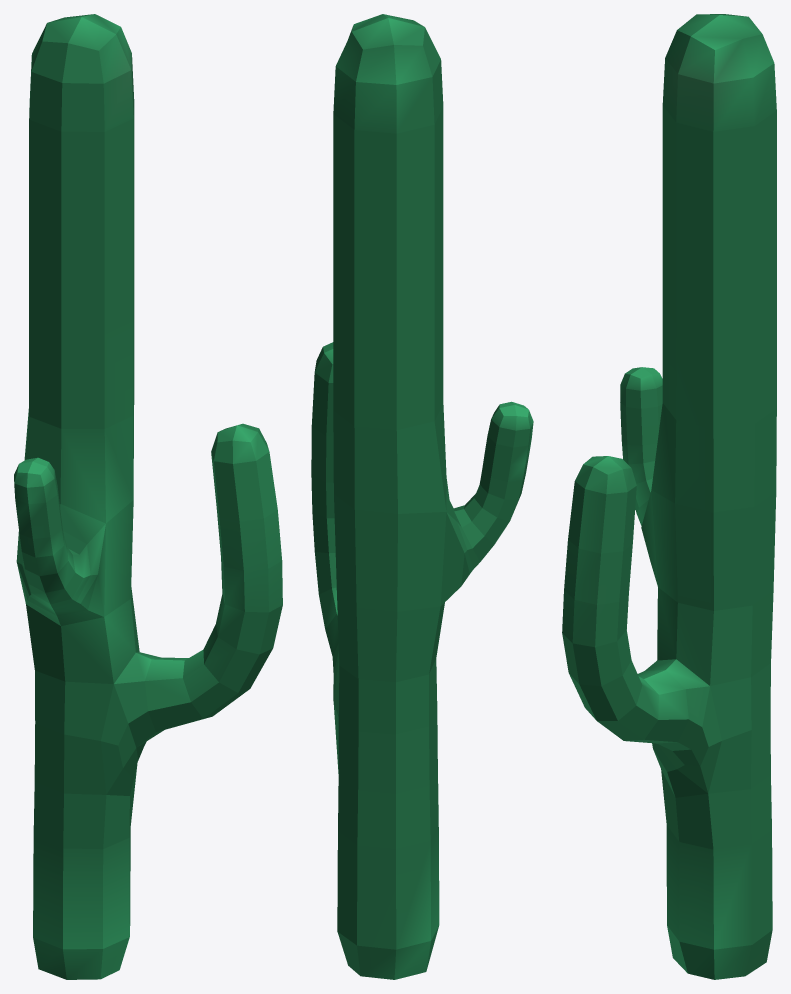
The model's file is Vegetetation02.fbx.
3 views of the same model, side by side, from view 1: azimuth 30°, elevation 25°; view 2: azimuth 150°, elevation 25°; view 3: azimuth 270°, elevation 25° (orthographic).
Visible parts, largest first — view 1: Vegetetation02_LOD0; view 2: Vegetetation02_LOD0; view 3: Vegetetation02_LOD0.
Part boxes in pixels (left/top/right/bottom): Vegetetation02_LOD0: left=14, top=14, right=282, bottom=979; Vegetetation02_LOD0: left=311, top=14, right=533, bottom=979; Vegetetation02_LOD0: left=562, top=14, right=776, bottom=979.
Size of what is drawn, in the model's own units: 34.74 by 130 by 26.75.
